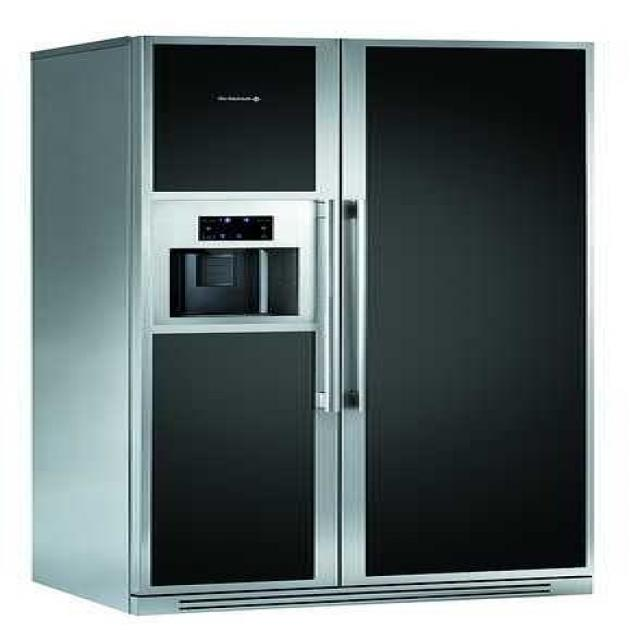refrigerator: (38, 43, 586, 591)
